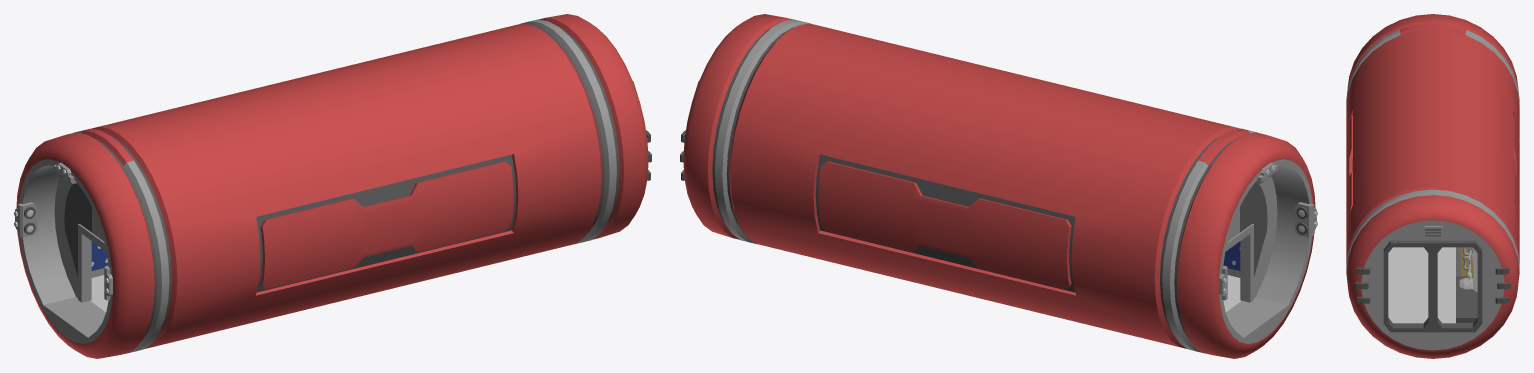
Rendered from env_mechanicstation_sleepcapsule01_lod1.fbx.
The picture shows the model from 3 angles, left to right: view 1: azimuth 30°, elevation 25°; view 2: azimuth 150°, elevation 25°; view 3: azimuth 270°, elevation 25°; orthographic projection. The views are drawn at different scales.
Visible parts, largest first — view 1: env_mechanicstation_sleepcapsule01_lod1; view 2: env_mechanicstation_sleepcapsule01_lod1; view 3: env_mechanicstation_sleepcapsule01_lod1.
Part boxes in pixels (left/top/right/bottom): env_mechanicstation_sleepcapsule01_lod1: left=14, top=14, right=651, bottom=358; env_mechanicstation_sleepcapsule01_lod1: left=680, top=14, right=1317, bottom=358; env_mechanicstation_sleepcapsule01_lod1: left=1346, top=14, right=1519, bottom=358.
Size of the model in its own units: 82.75 by 30.03 by 30.03.
